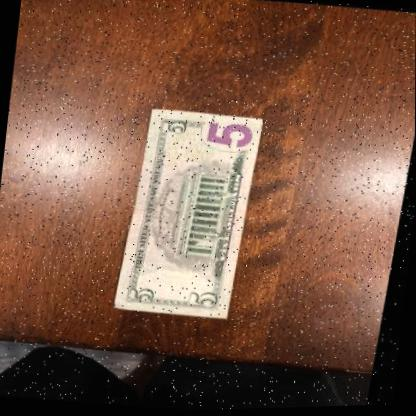vef_back: (117, 103, 266, 323)
